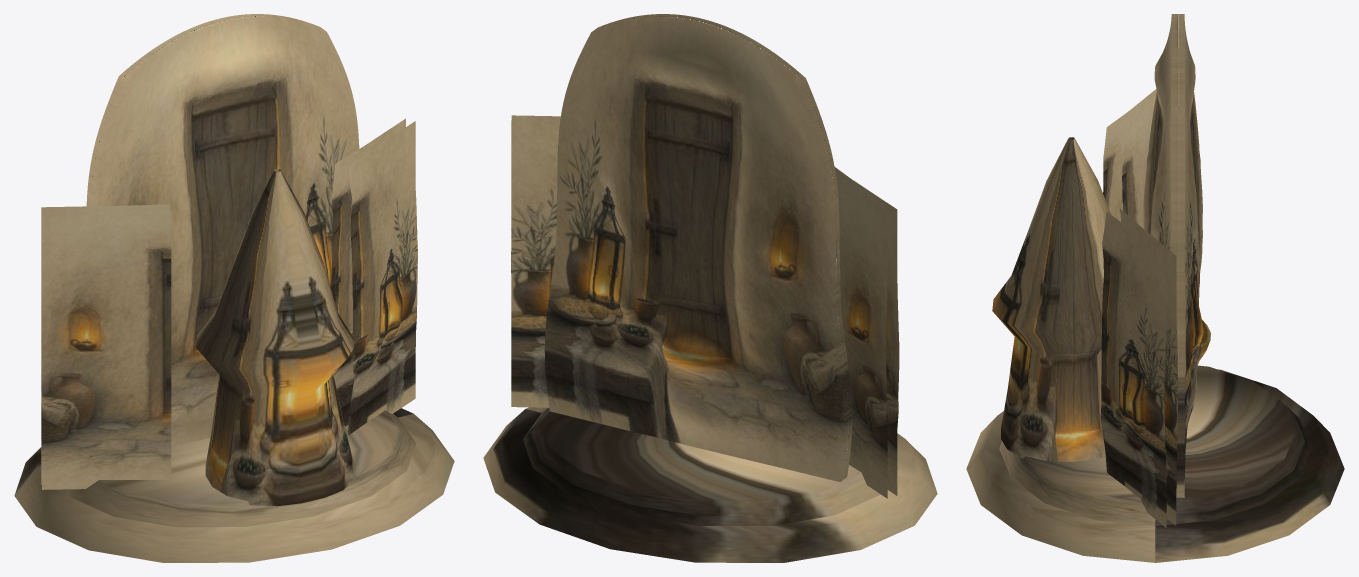
File: all-things-new-8.glb
3 views of the same model, side by side, from view 1: azimuth 30°, elevation 25°; view 2: azimuth 150°, elevation 25°; view 3: azimuth 270°, elevation 25° (orthographic). The views are drawn at different scales.
Parts seen in each view (by area): view 1: PaintingSculptureMonument; view 2: PaintingSculptureMonument; view 3: PaintingSculptureMonument.
Boxes of the visible parts, bbox=[...] form: PaintingSculptureMonument: bbox=[14, 14, 454, 562]; PaintingSculptureMonument: bbox=[483, 14, 937, 562]; PaintingSculptureMonument: bbox=[966, 14, 1344, 562].
Bounding box in the file's own units: 2.76 × 2.99 × 2.35.
Materials: 1 (1 with a texture image).
